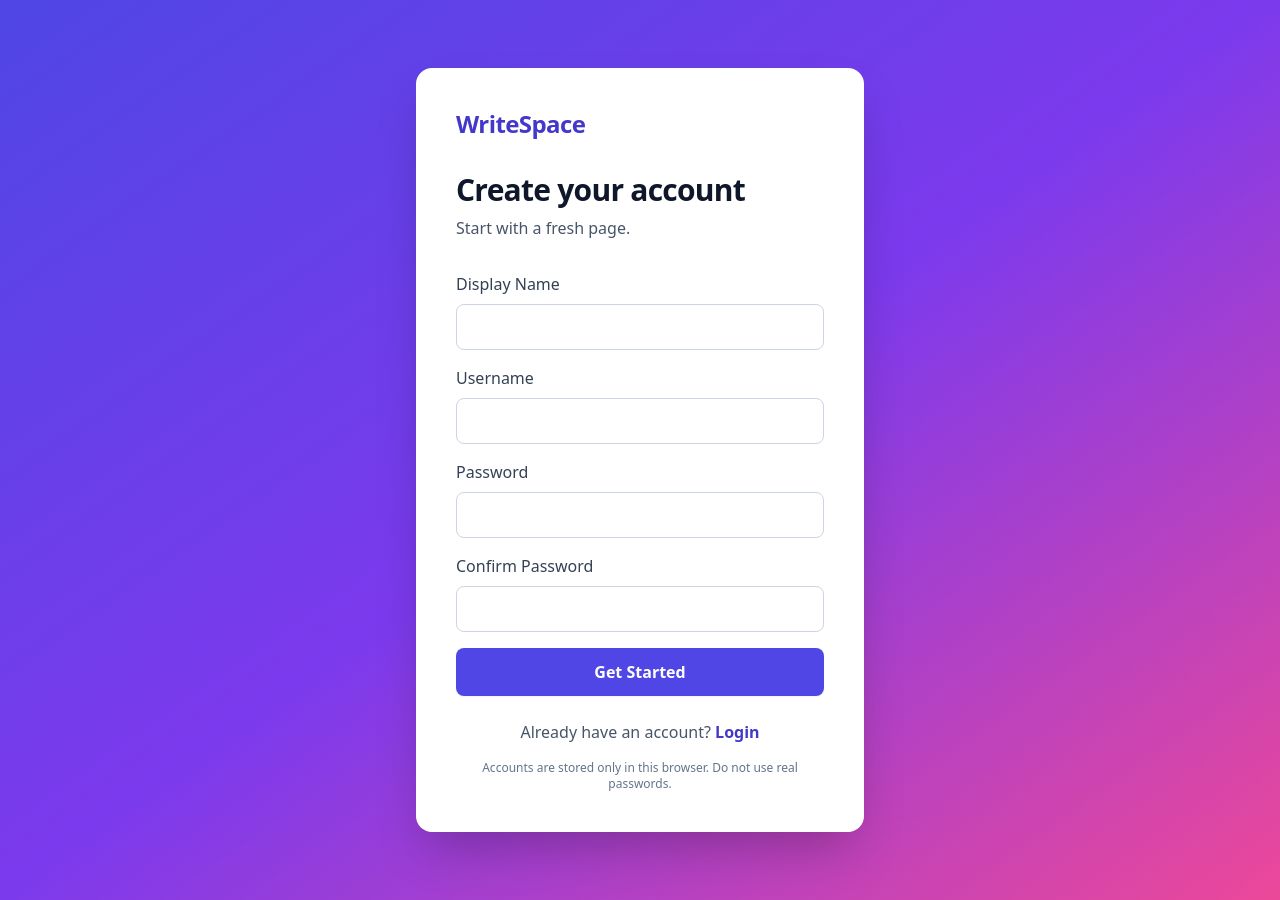
Scenario: registration page › reports a session-save failure without navigating after account registration
In the field labelled "Display Name": (640, 327) [456,304,824,350], type "Mira Vale"
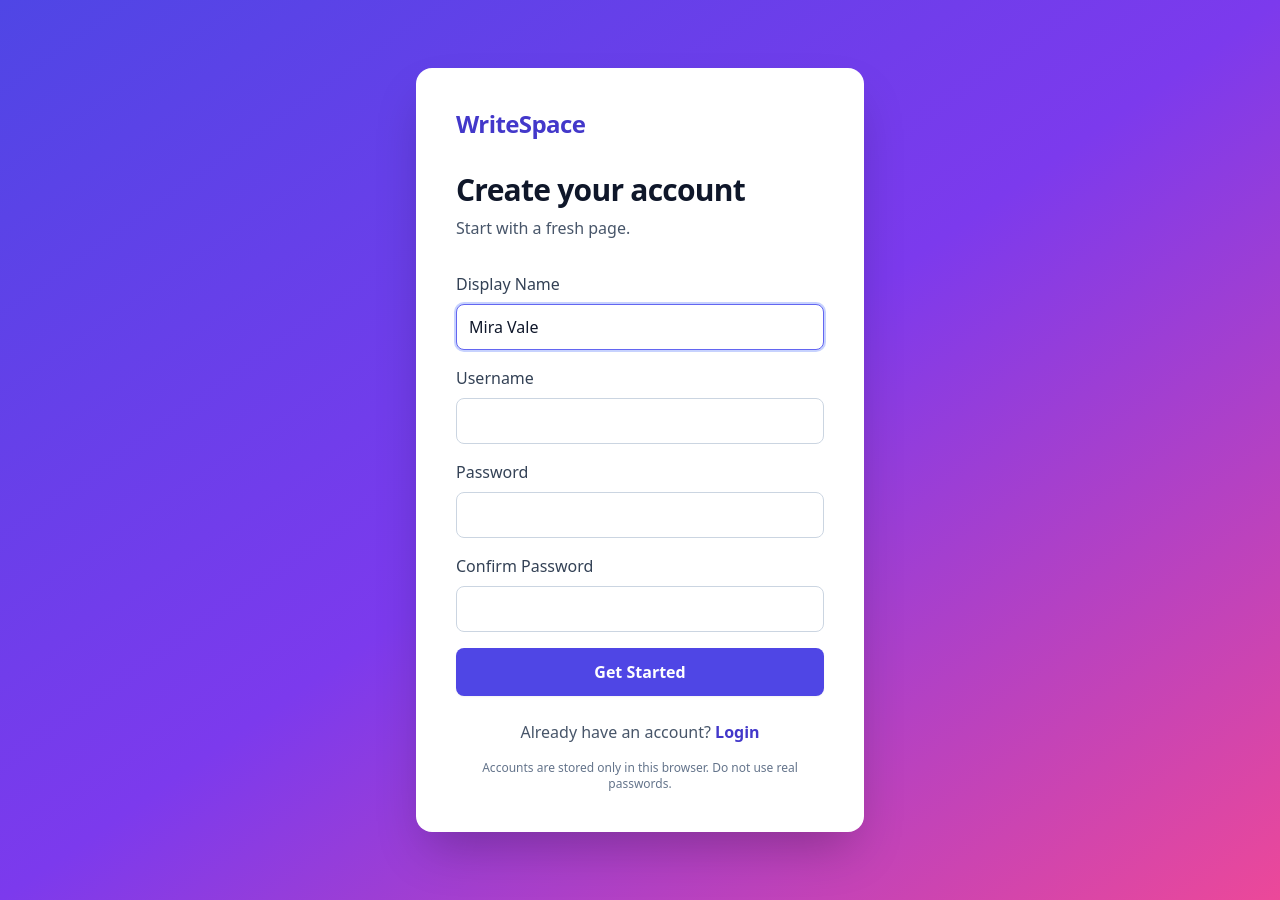
In the field labelled "Username": (640, 421) [456,398,824,444], type "mira"
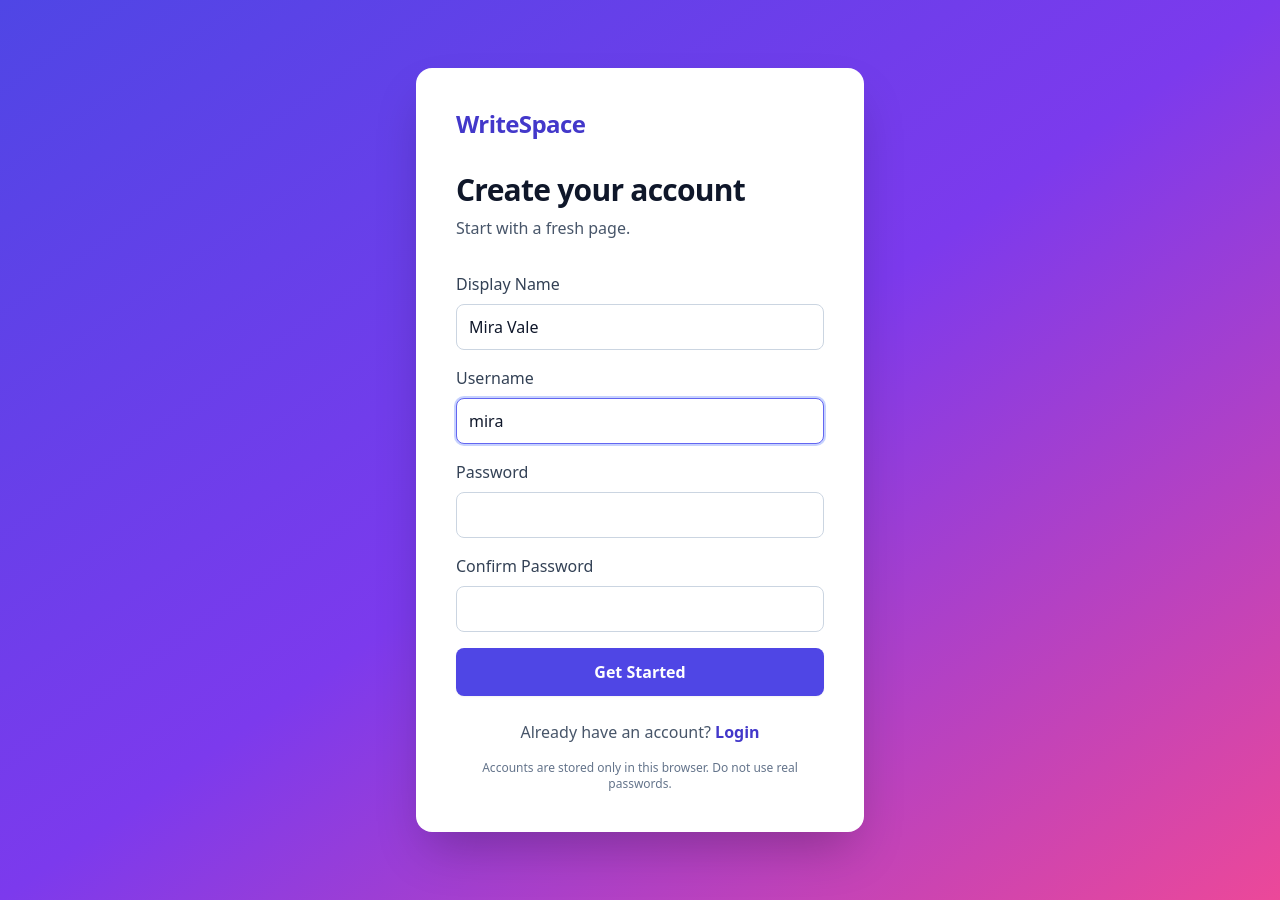
In the password field labelled "Password": (640, 515) [456,492,824,538], type "secret"
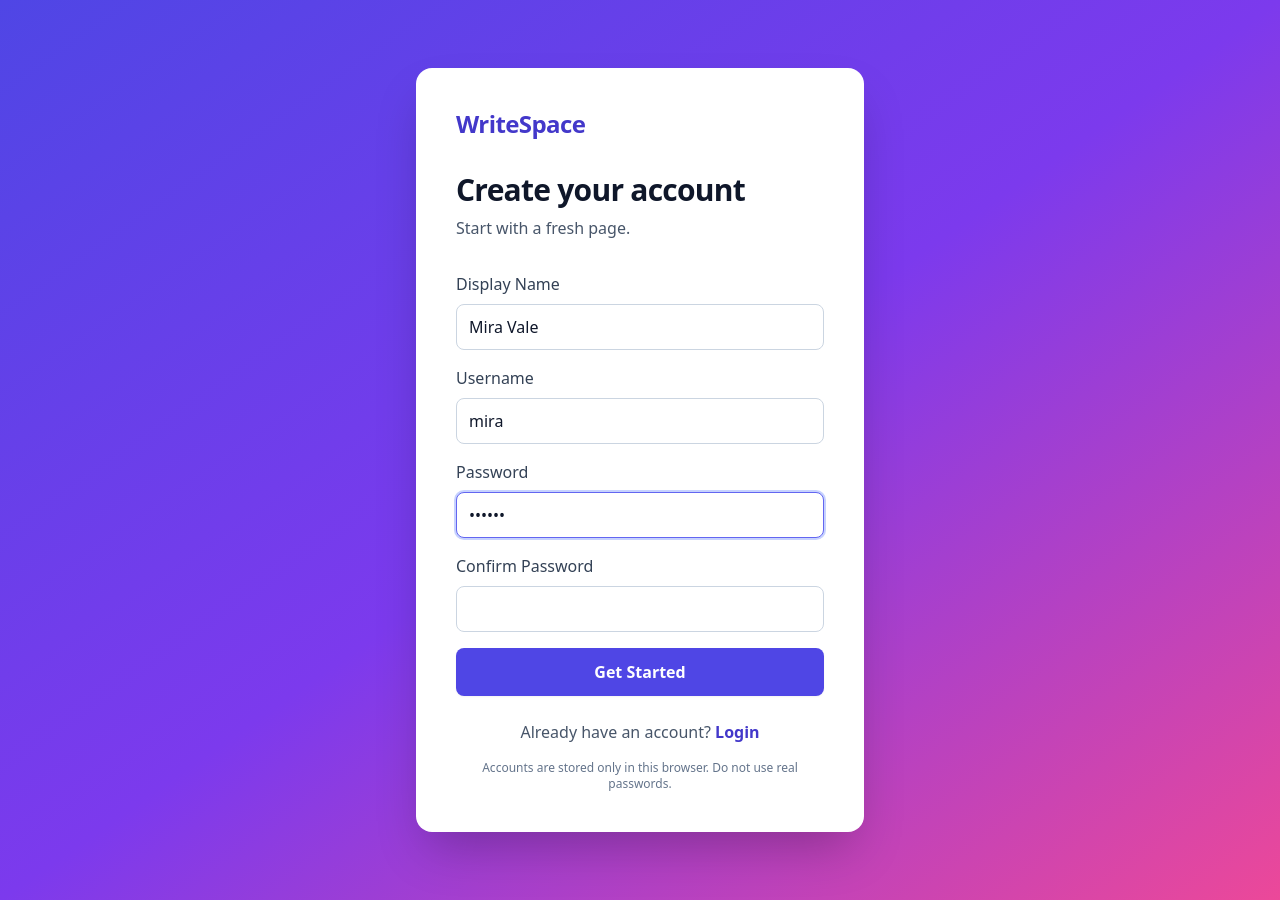
In the password field labelled "Confirm Password": (640, 609) [456,586,824,632], type "secret"
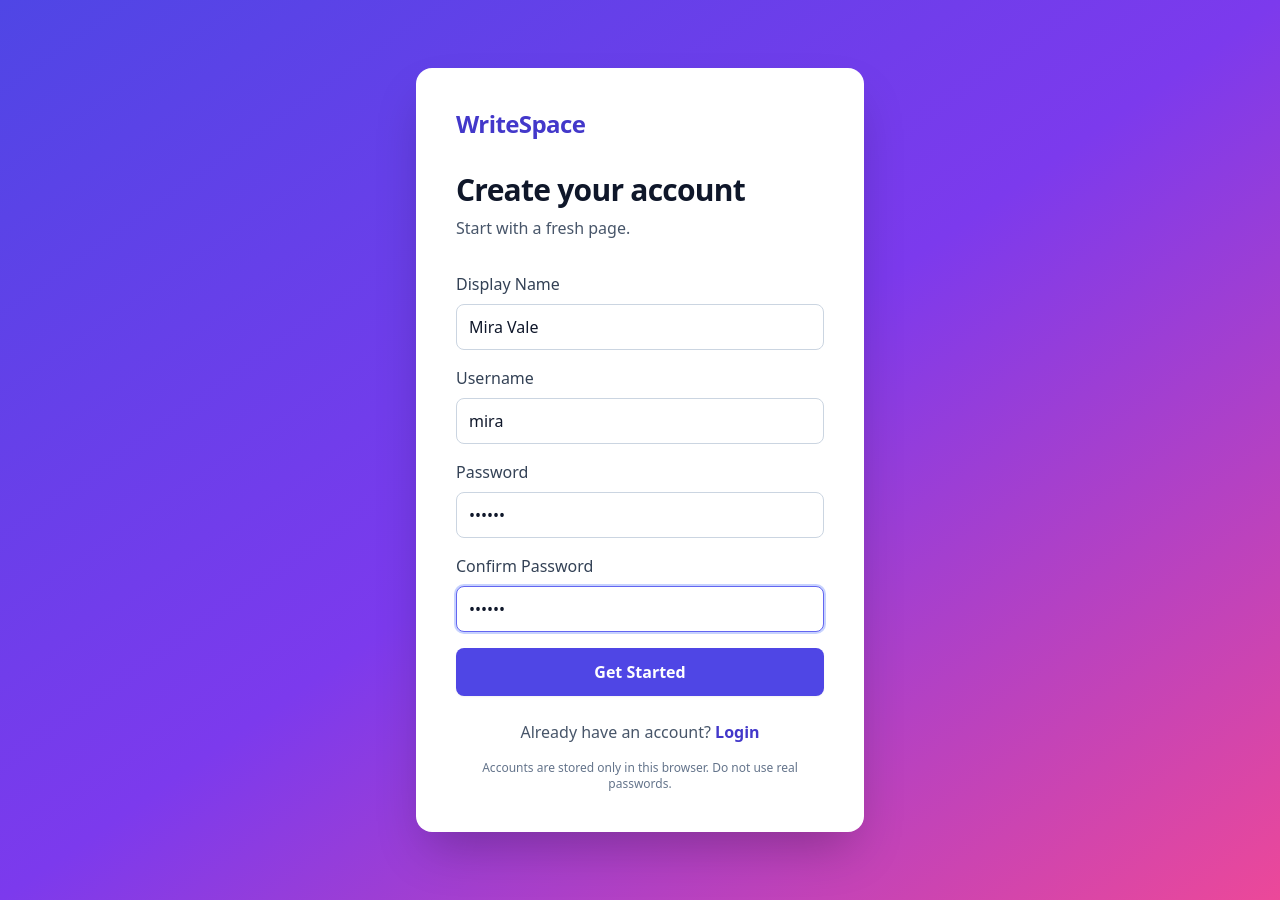
Click the button "Get Started": click(640, 672) [456,648,824,696]
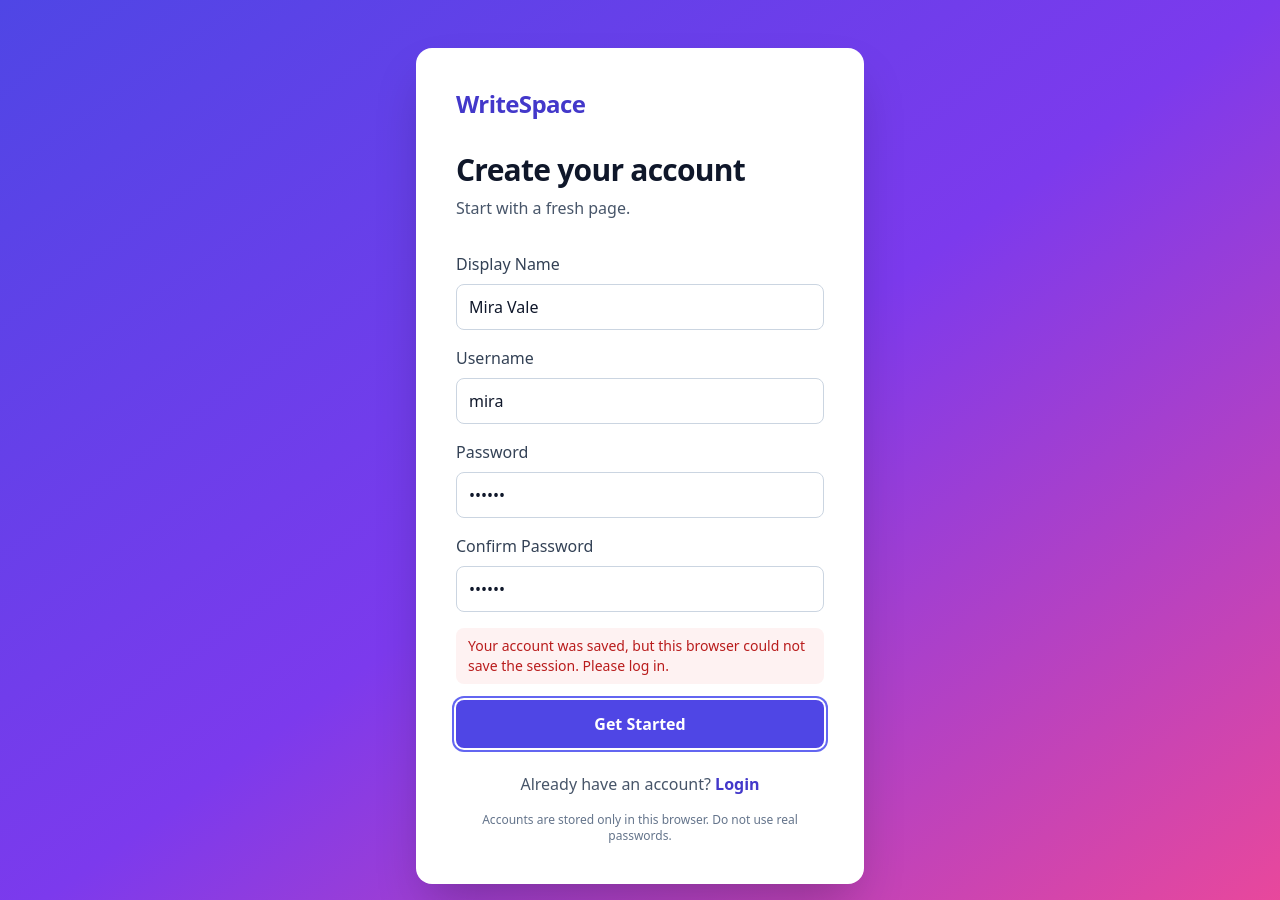
Result: the message shows "Your account was saved, but this browser could not save the session. Please log in." at [468,636,805,675]
